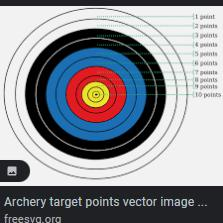bulls eye: (4, 10, 189, 177)
